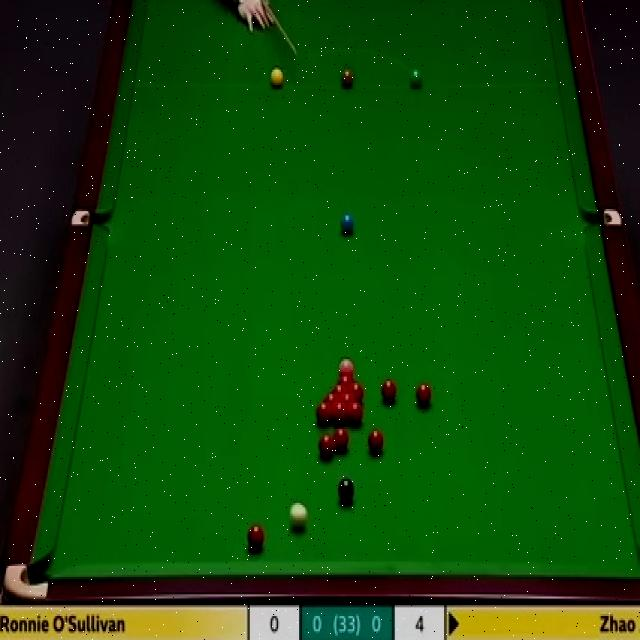black-ball: (338, 475, 355, 507)
blue-ball: (340, 212, 354, 238)
brown-ball: (340, 70, 355, 90)
green-ball: (408, 68, 424, 91)
pink-ball: (338, 357, 355, 374)
red-ball: (247, 522, 265, 554), (416, 382, 434, 410), (380, 377, 397, 405), (318, 433, 335, 459), (347, 402, 364, 426), (368, 430, 384, 455), (314, 402, 330, 426), (332, 401, 347, 424), (334, 428, 348, 452), (350, 383, 364, 403), (329, 383, 350, 394), (337, 374, 356, 385), (324, 393, 341, 403), (340, 392, 357, 402)
white-ball: (289, 502, 307, 534)
yellow-ball: (270, 67, 284, 90)
